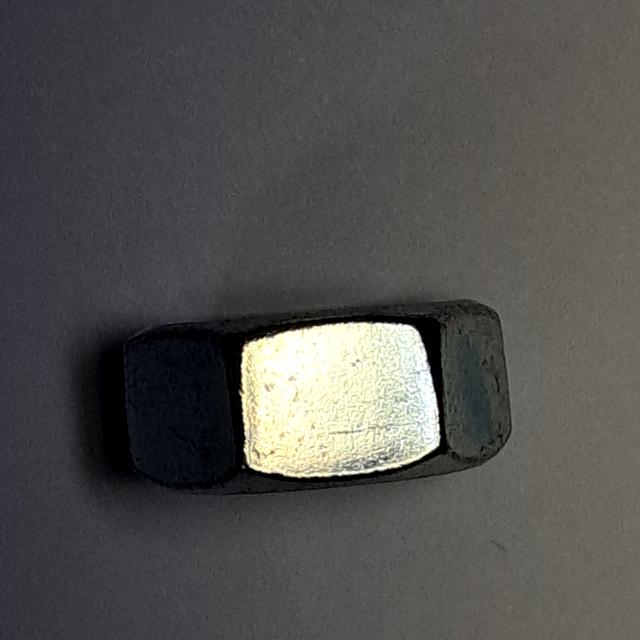Side_Excellent: (104, 280, 525, 514)
